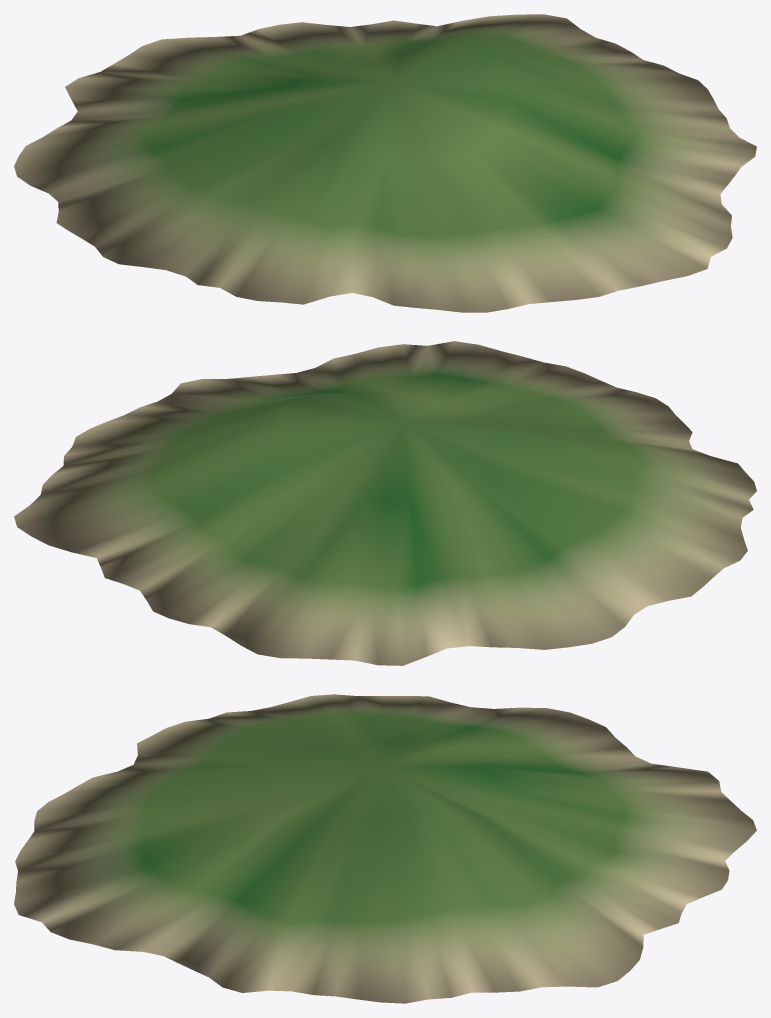
Rendered from Island_Far_A.glb.
The picture shows the model from 3 angles, top to bottom: view 1: azimuth 30°, elevation 25°; view 2: azimuth 150°, elevation 25°; view 3: azimuth 270°, elevation 25°; orthographic projection.
Visible parts, largest first — view 1: Island_Far_A; view 2: Island_Far_A; view 3: Island_Far_A.
Part boxes in pixels (left/top/right/bottom): Island_Far_A: left=14, top=14, right=756, bottom=312; Island_Far_A: left=14, top=341, right=756, bottom=665; Island_Far_A: left=14, top=694, right=756, bottom=1003.
Size of the model in its own units: 417 by 56.21 by 428.
